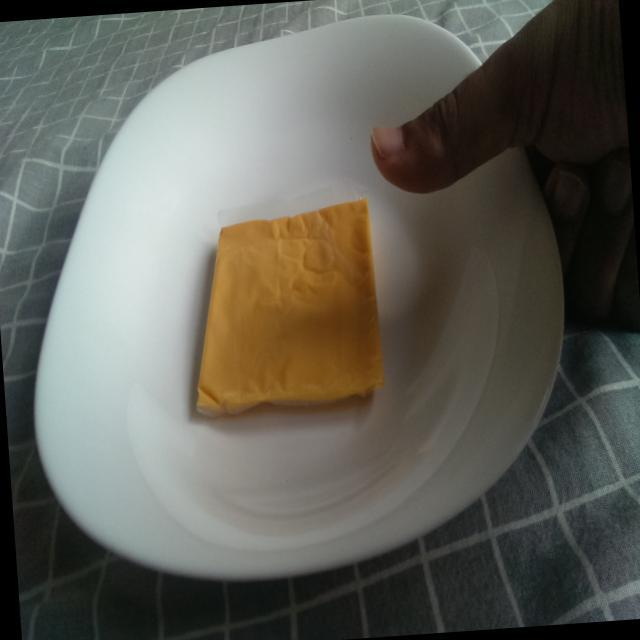Cheese: (176, 192, 389, 429)
Finger: (362, 74, 469, 201)
